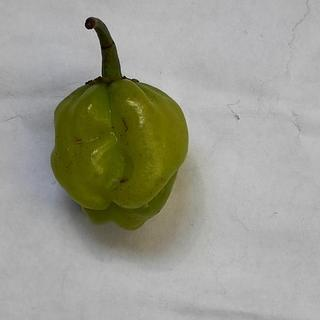Grade-B: (47, 74, 186, 229)
